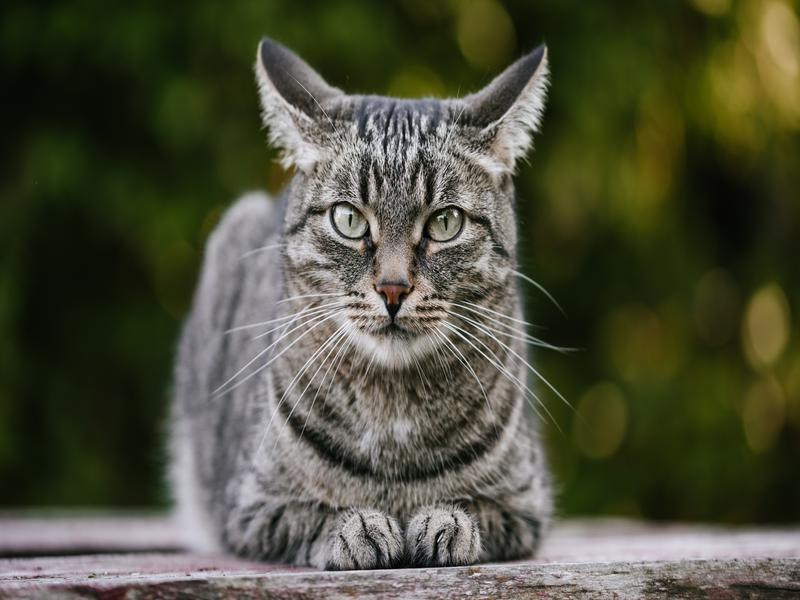cat: (163, 32, 564, 563)
